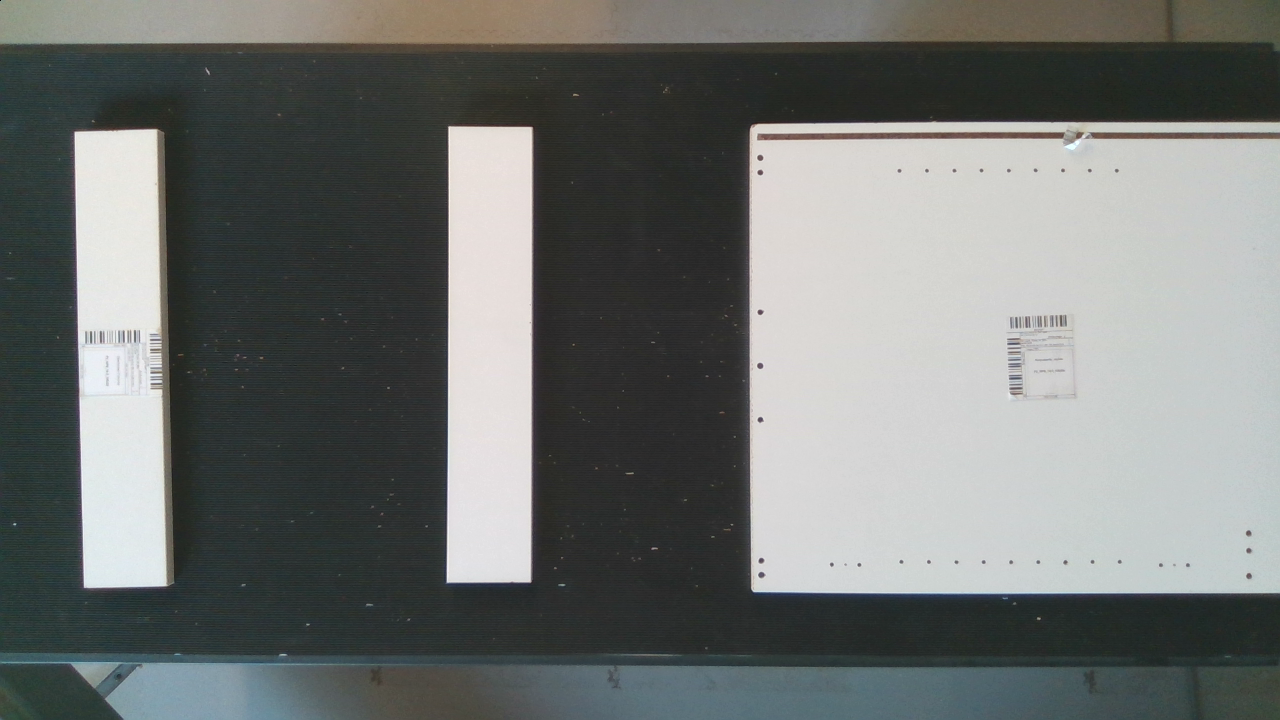barcode: (996, 297, 1090, 408), (73, 318, 174, 403)
part1: (65, 116, 180, 598), (440, 116, 548, 594)
part2: (723, 98, 1280, 604)
